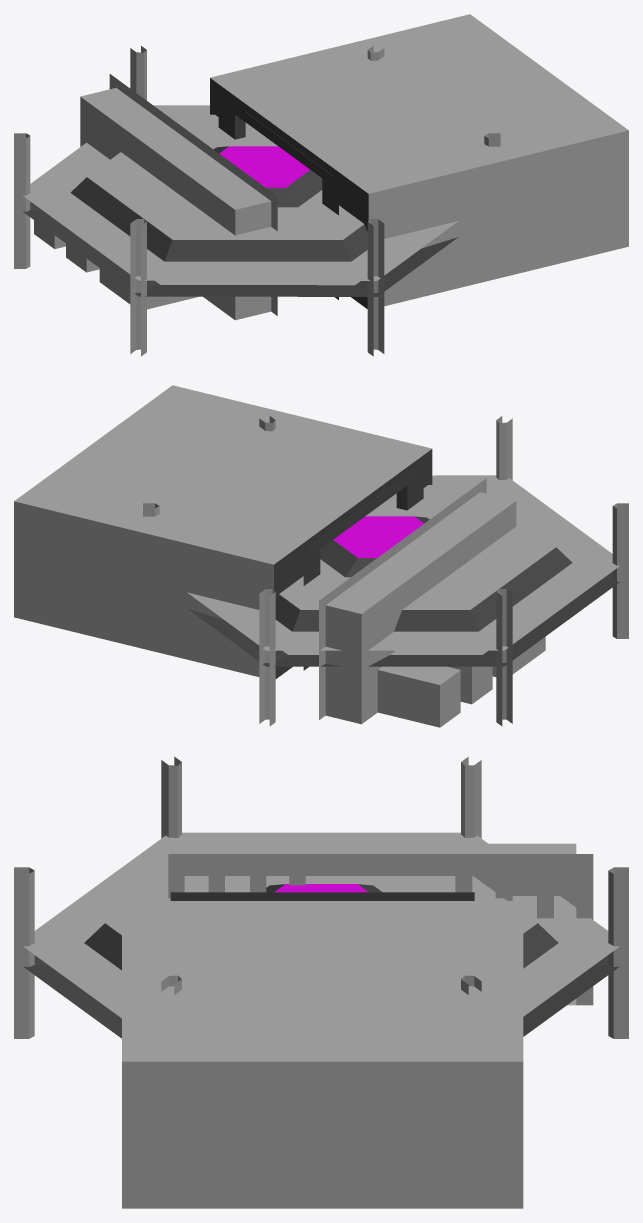
The model's file is Newerhub.fbx.
3 renders of one model, top to bottom at view 1: azimuth 30°, elevation 25°; view 2: azimuth 150°, elevation 25°; view 3: azimuth 270°, elevation 25°, orthographic. The views are drawn at different scales.
Parts seen in each view (by area): view 1: ModularhubPaddock, ModularhubRoof, ModularhubColumns, Modularhubwall_blank, ModularhubFloor, Modularhubwall_blank3, Modularhubwall_blank1, Modularhubwall_blank2; view 2: ModularhubPaddock, ModularhubRoof, Modularhubwall_blank3, ModularhubColumns, Modularhubwall_blank1, ModularhubFloor, Modularhubwall_blank, Modularhubwall_blank2; view 3: ModularhubPaddock, ModularhubRoof, ModularhubColumns, Modularhubwall_blank, Modularhubwall_blank1, Modularhubwall_blank3, Modularhubwall_blank2, ModularhubFloor.
Boxes of the visible parts, x1=… form: ModularhubPaddock: x1=210, y1=14, x2=628, y2=308; ModularhubRoof: x1=23, y1=105, x2=458, y2=280; ModularhubColumns: x1=14, y1=46, x2=500, y2=356; Modularhubwall_blank: x1=128, y1=108, x2=277, y2=320; ModularhubFloor: x1=23, y1=201, x2=458, y2=296; Modularhubwall_blank3: x1=34, y1=74, x2=229, y2=248; Modularhubwall_blank1: x1=66, y1=97, x2=261, y2=309; Modularhubwall_blank2: x1=96, y1=85, x2=238, y2=298; ModularhubPaddock: x1=14, y1=385, x2=432, y2=678; ModularhubRoof: x1=187, y1=475, x2=619, y2=650; Modularhubwall_blank3: x1=319, y1=527, x2=467, y2=727; ModularhubColumns: x1=143, y1=416, x2=628, y2=726; Modularhubwall_blank1: x1=350, y1=490, x2=545, y2=704; ModularhubFloor: x1=187, y1=571, x2=619, y2=666; Modularhubwall_blank: x1=366, y1=478, x2=516, y2=590; Modularhubwall_blank2: x1=334, y1=516, x2=521, y2=712; ModularhubPaddock: x1=122, y1=892, x2=523, y2=1208; ModularhubRoof: x1=23, y1=832, x2=619, y2=1018; ModularhubColumns: x1=14, y1=756, x2=628, y2=1038; Modularhubwall_blank: x1=168, y1=843, x2=472, y2=898; Modularhubwall_blank1: x1=208, y1=843, x2=512, y2=900; Modularhubwall_blank3: x1=289, y1=843, x2=593, y2=1005; Modularhubwall_blank2: x1=250, y1=843, x2=553, y2=918; ModularhubFloor: x1=23, y1=955, x2=619, y2=1038.
Bounding box in the file's own units: 1836 × 480 × 1619.
